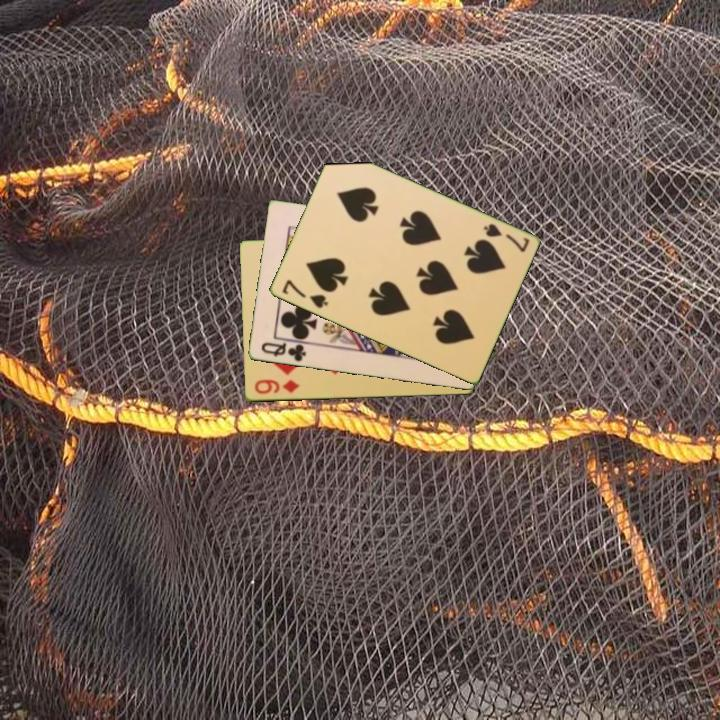7s: (278, 276, 331, 312), (480, 220, 532, 255)
9d: (251, 376, 302, 397)
Qc: (257, 338, 312, 365)
